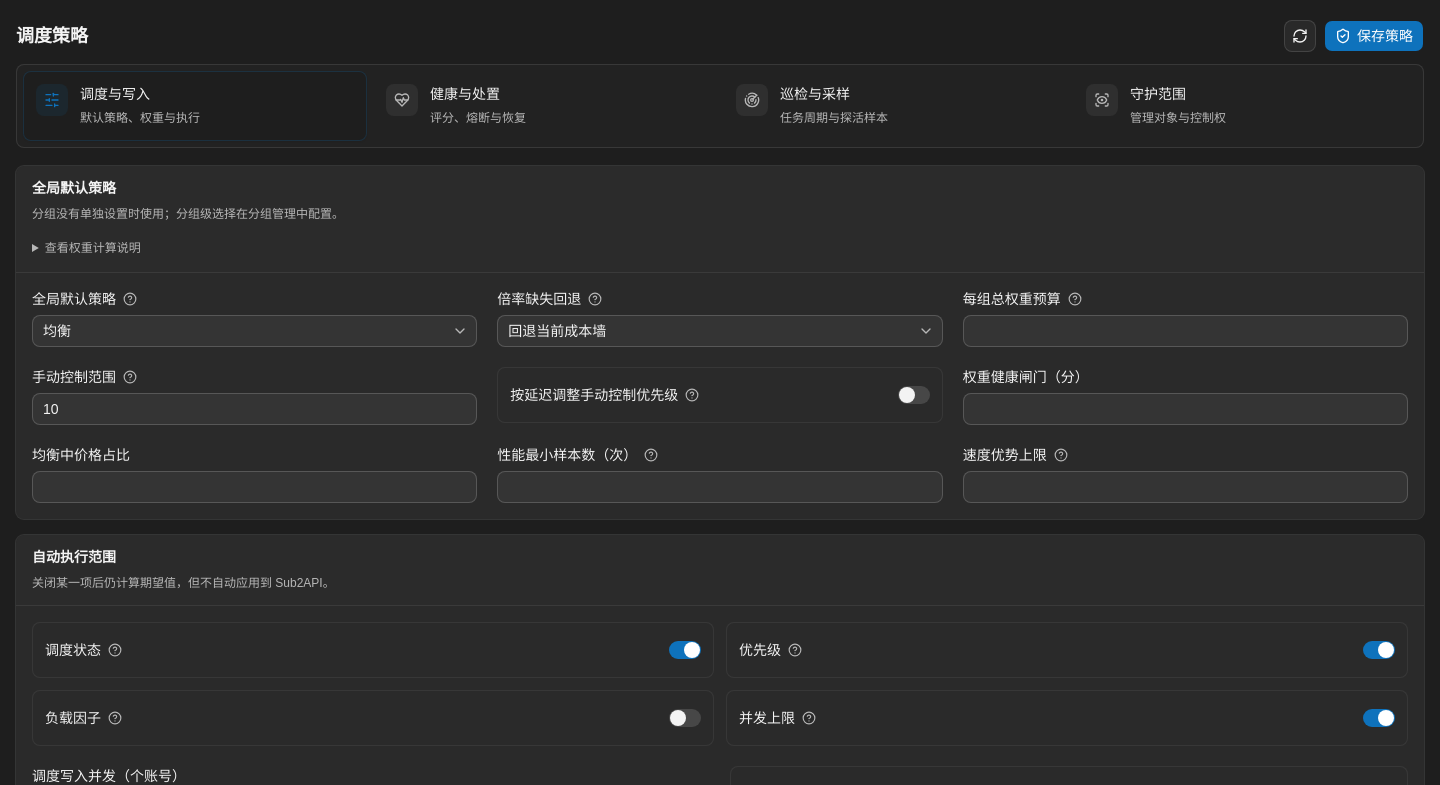
已有本地修改时保留原版本并展示并发冲突，不用新版本覆盖旧草稿
The width and height of the screenshot is (1440, 785).
Click the switch named "调度状态自动执行" at point(685, 650), box [669,641,701,659]
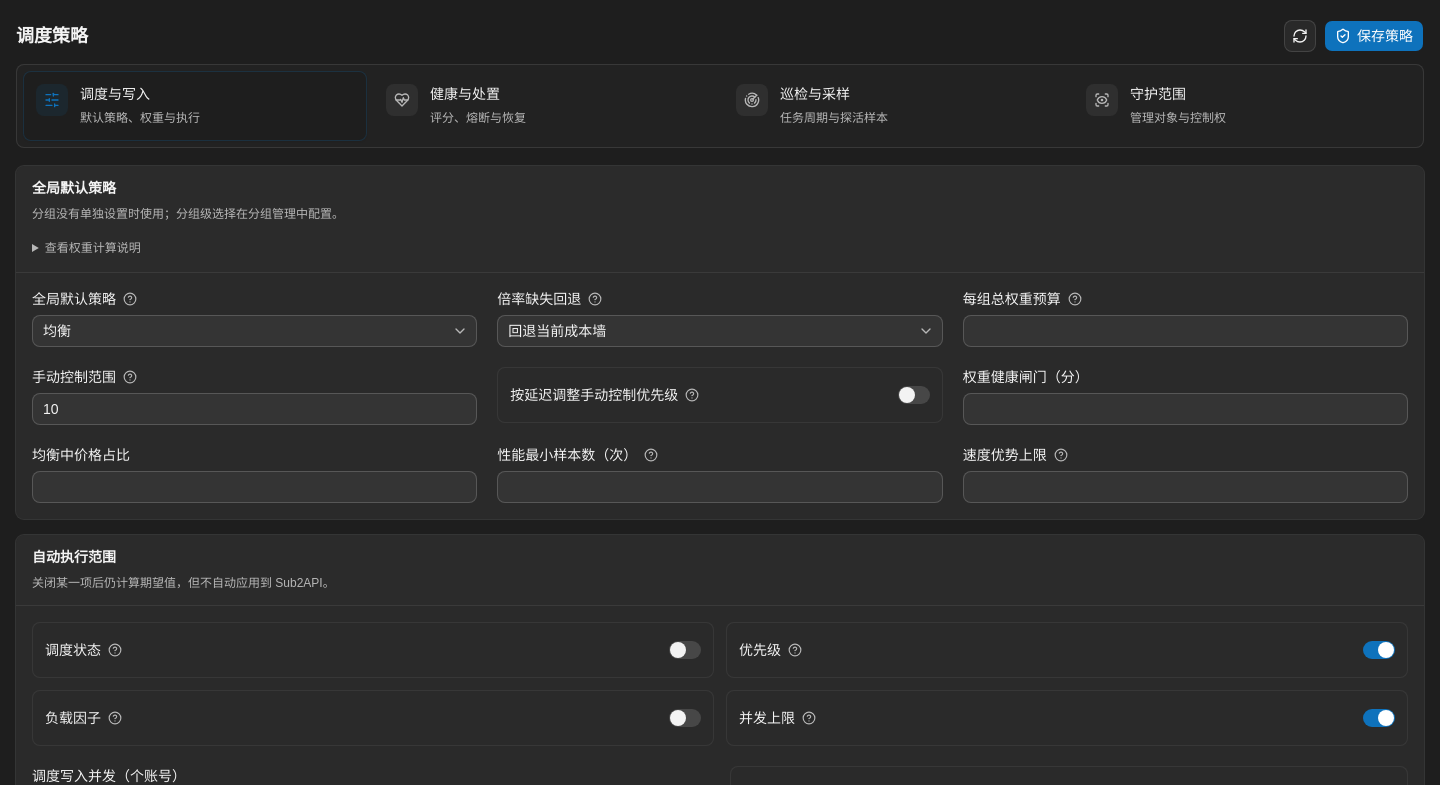
Check: the switch named "调度状态自动执行" is not checked, box [669,641,701,659]
Click the button "保存策略" at point(1374, 36), box [1324,20,1424,52]
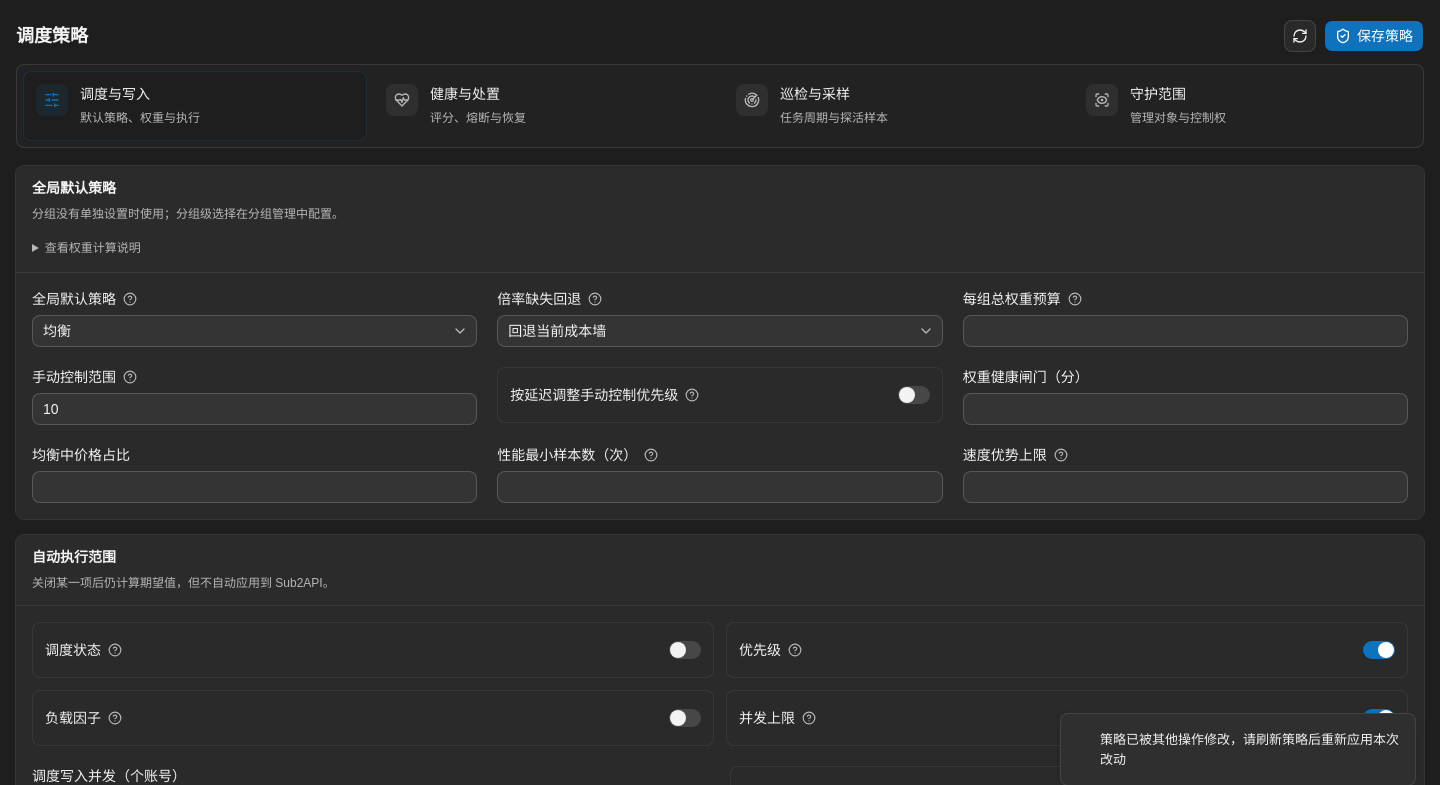
Check: the switch named "调度状态自动执行" is not checked, box [669,641,701,659]
Check: the text "策略已被其他操作修改，请刷新策略后重新应用本次改动" is shown, box [1100,730,1399,769]
